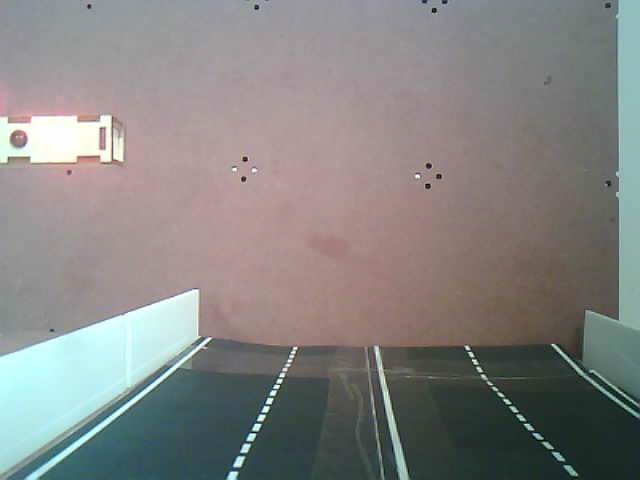red: (0, 111, 132, 182)
